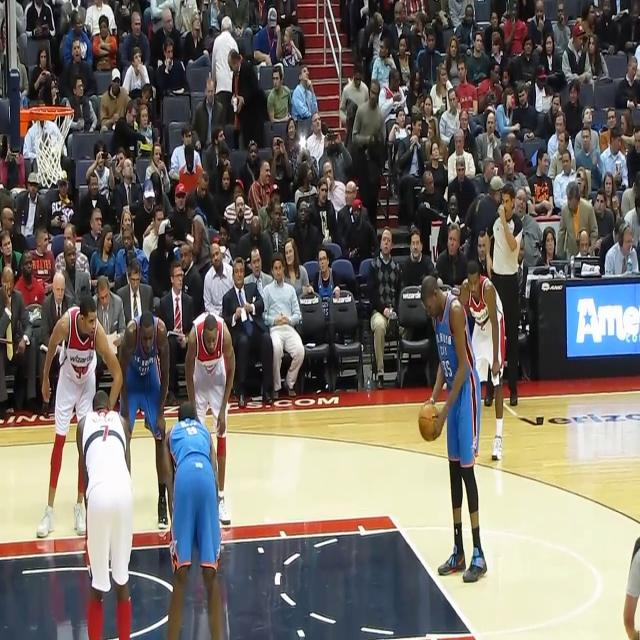ball: (419, 401, 441, 442)
